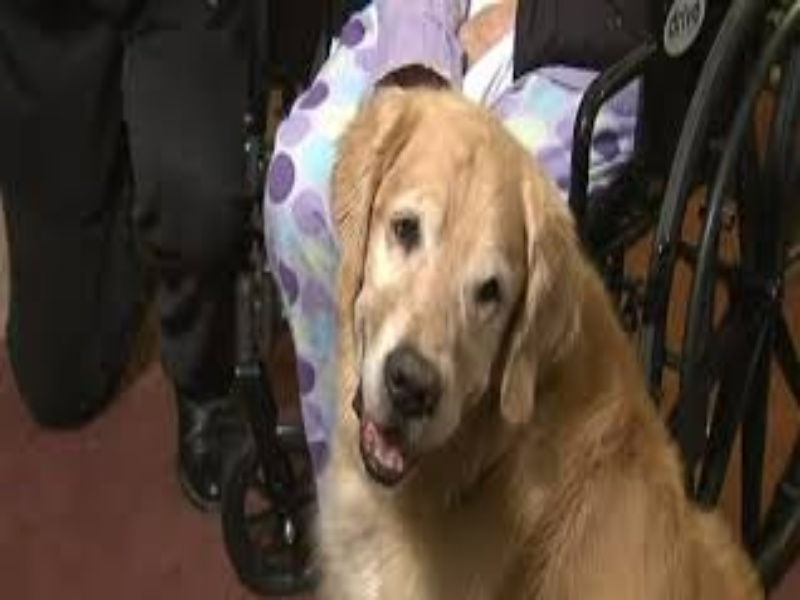dog: (308, 78, 711, 600)
